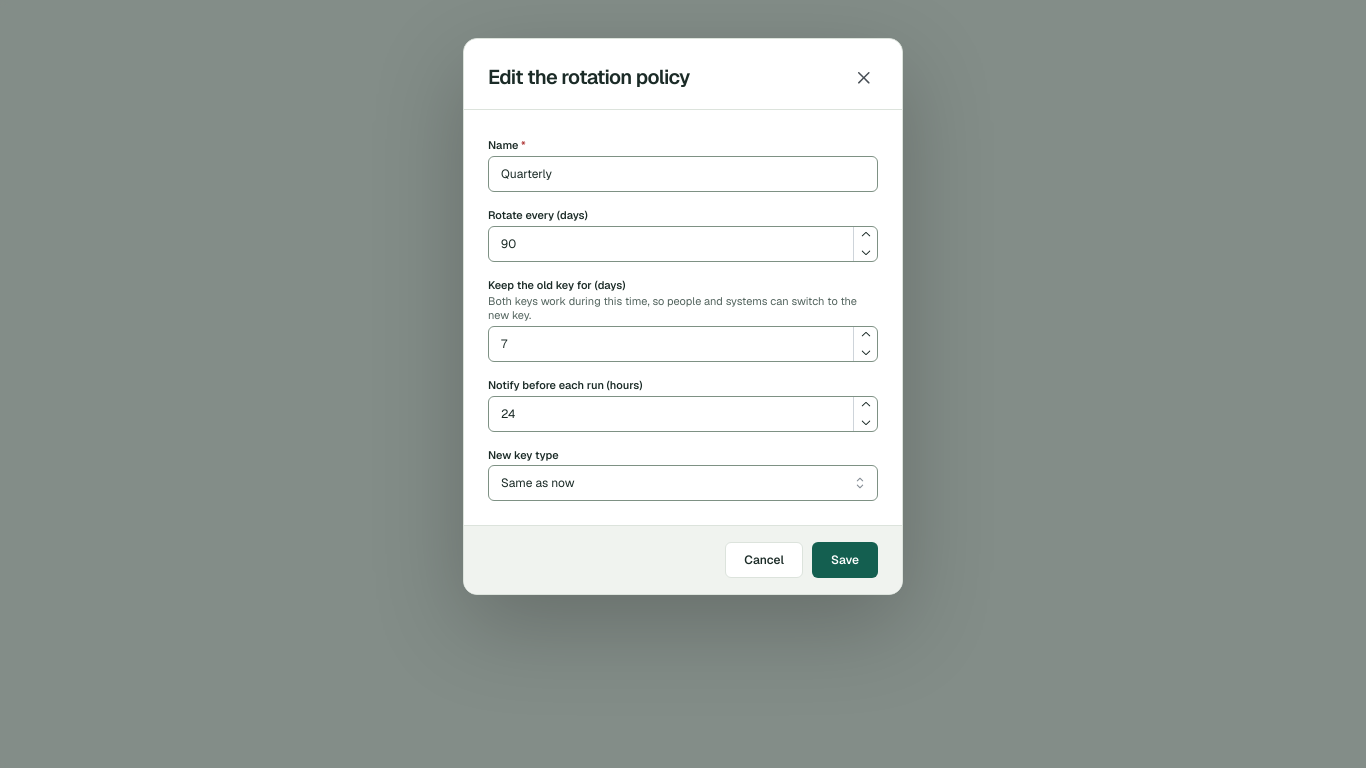
Test: RotationPolicyDialog › says the policy changed meanwhile after a 412 and keeps the dialog open
Replace the text in the field labelled "Rotate every (days)" with "10" at (683, 244), box [488, 226, 878, 262]
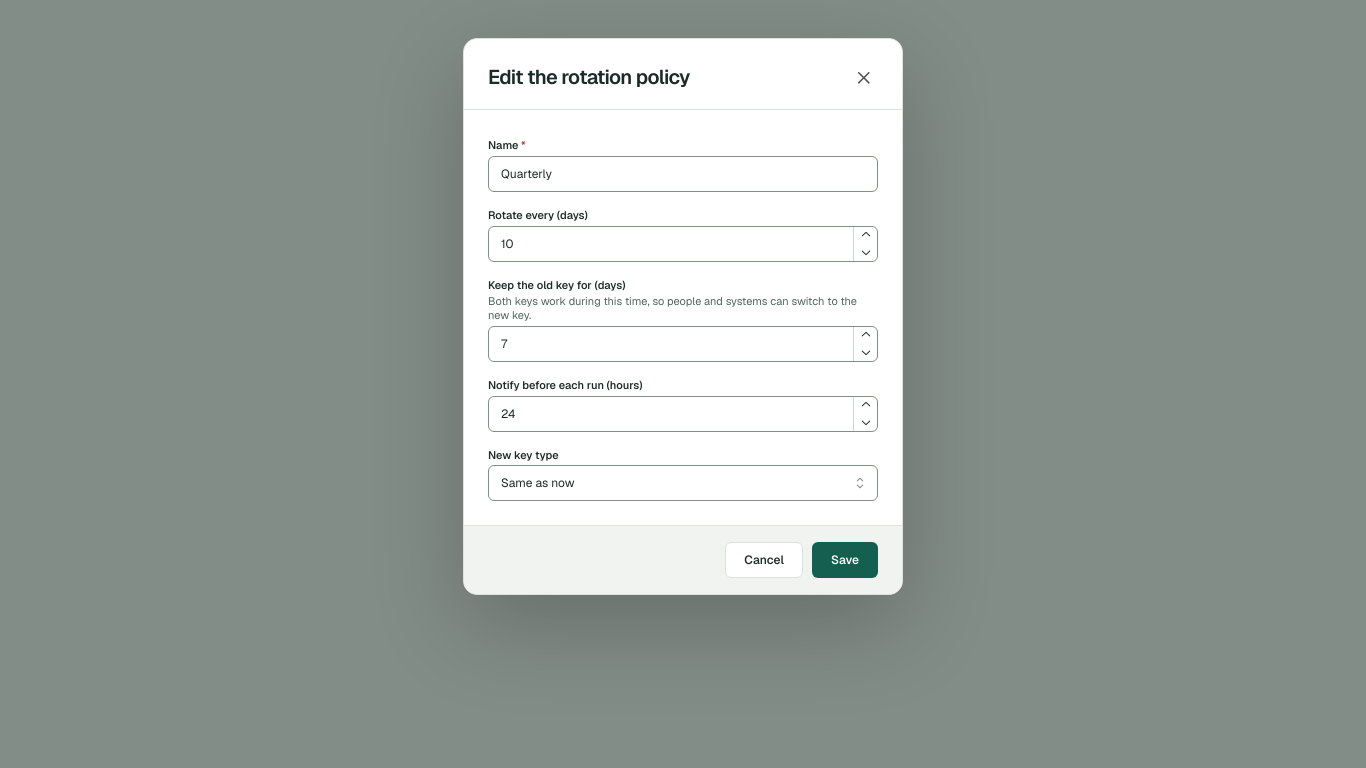
Click the button "Save" at (845, 560), box [812, 542, 878, 578]
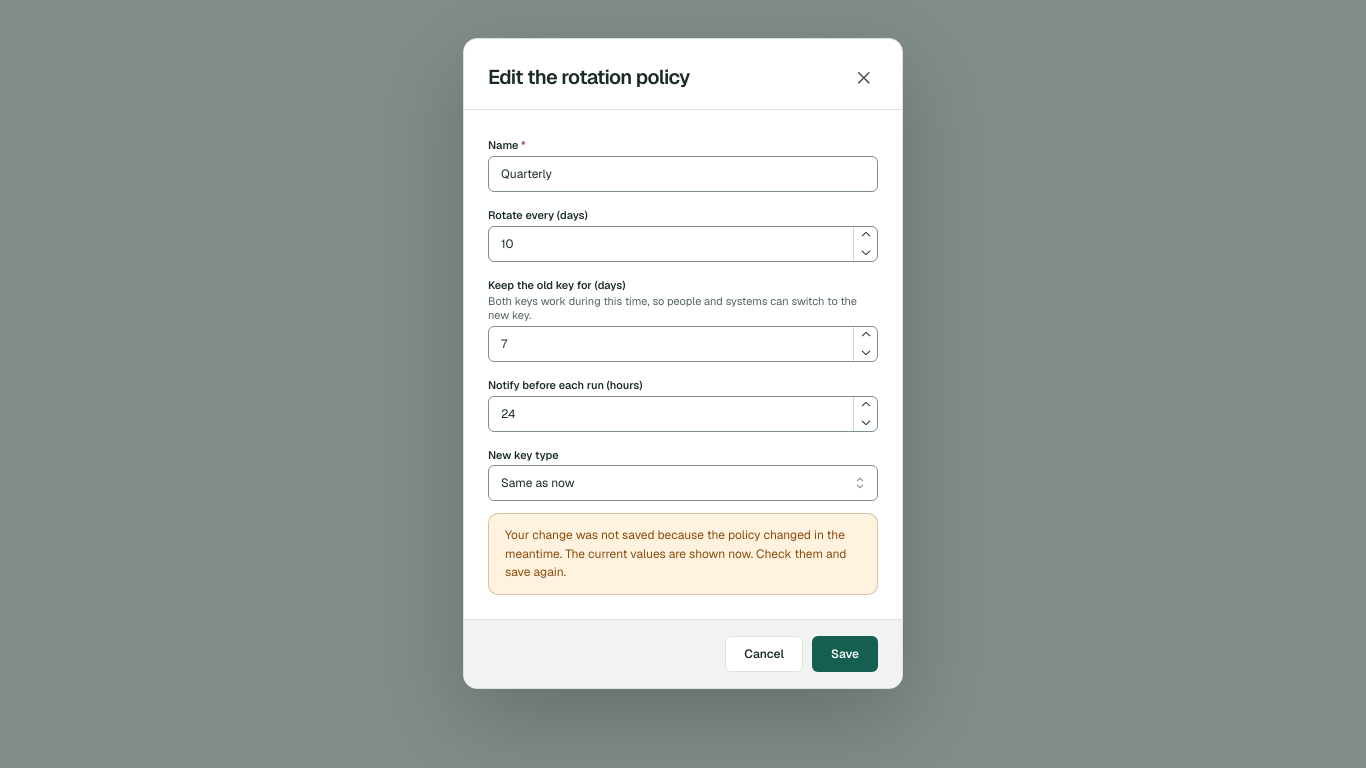
Expected: the text "Your change was not saved because the policy changed in the meantime" is shown, [505, 527, 846, 580]
